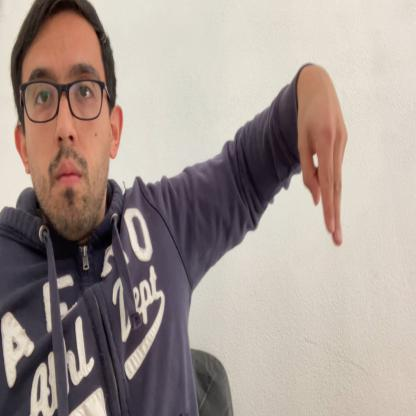N: (296, 65, 349, 244)
